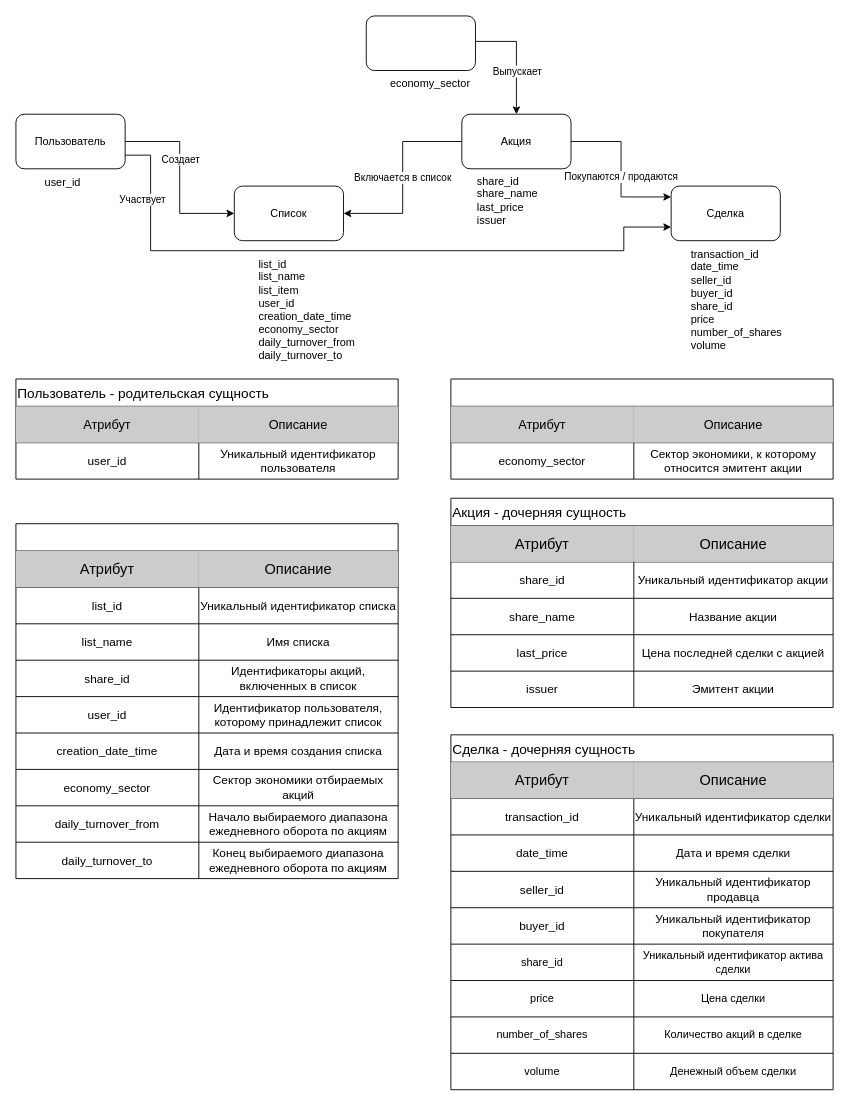
This 849x1106 diagram has some shape labels left out. Each missing label, with the box of its shape:
Список - дочерняя сущность: (15, 523, 398, 879)
Эмитент: (365, 15, 475, 71)
Эмитент - родительская сущность: (450, 378, 833, 479)
